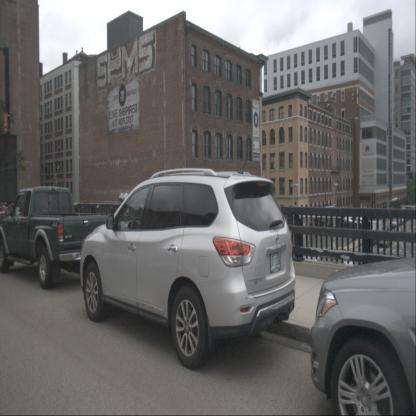vehicle-car: (79, 168, 296, 370), (309, 257, 416, 416), (0, 186, 109, 290)
